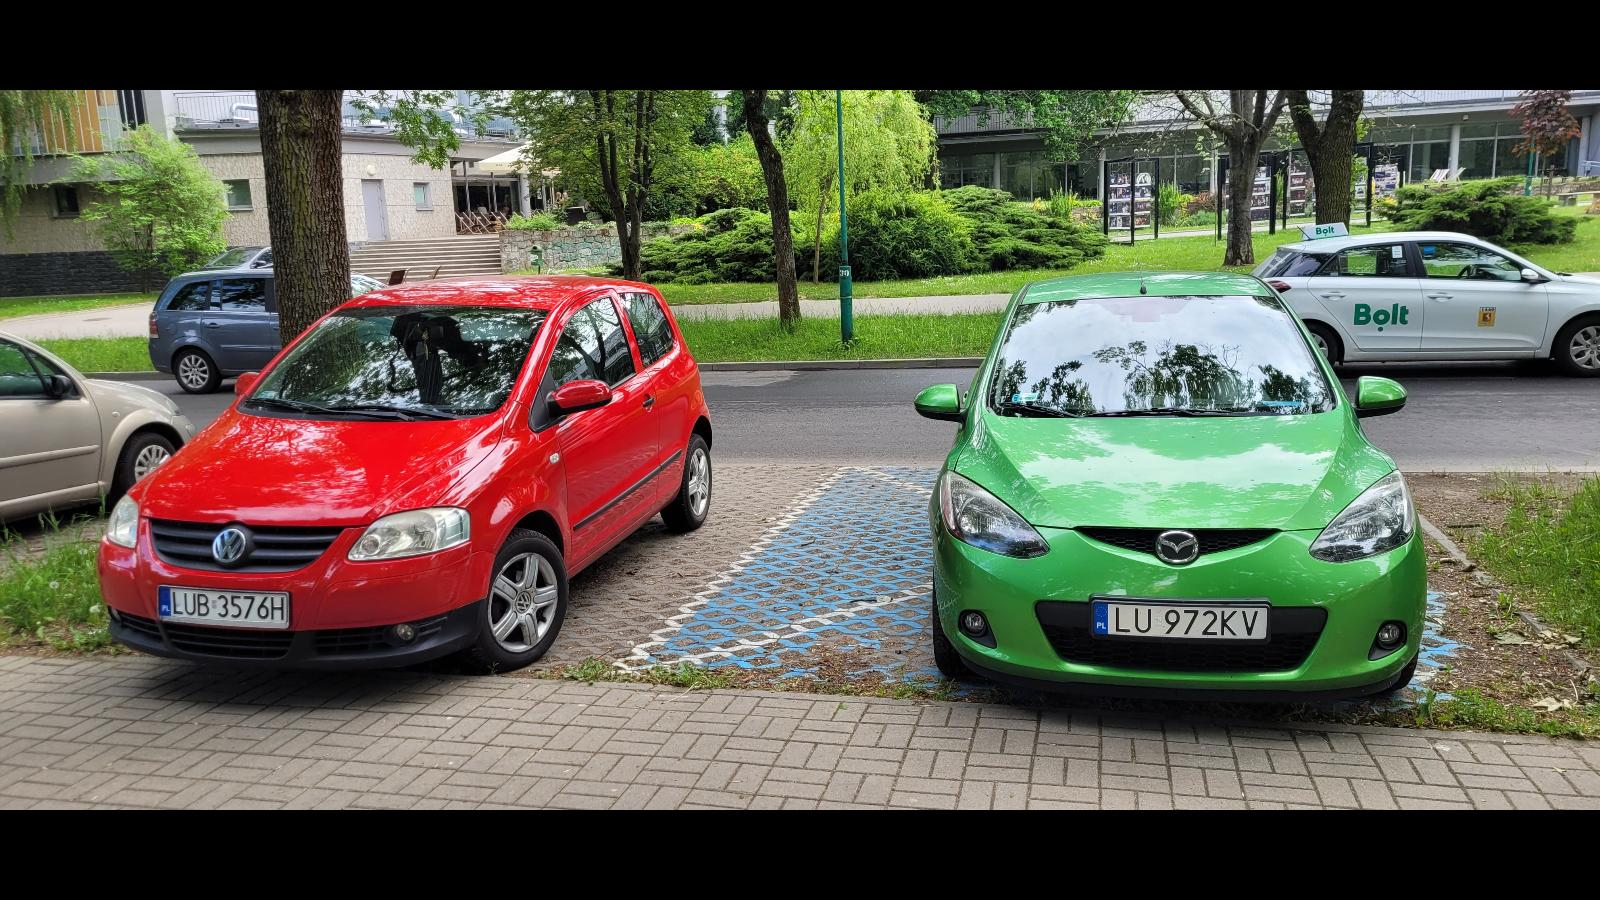plates: (1092, 600, 1270, 644), (158, 586, 288, 628)
